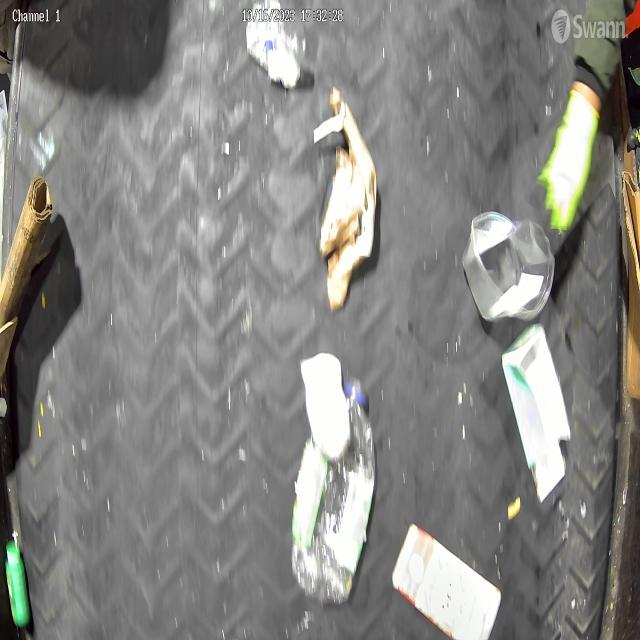plastic_bottle: (294, 381, 379, 610)
